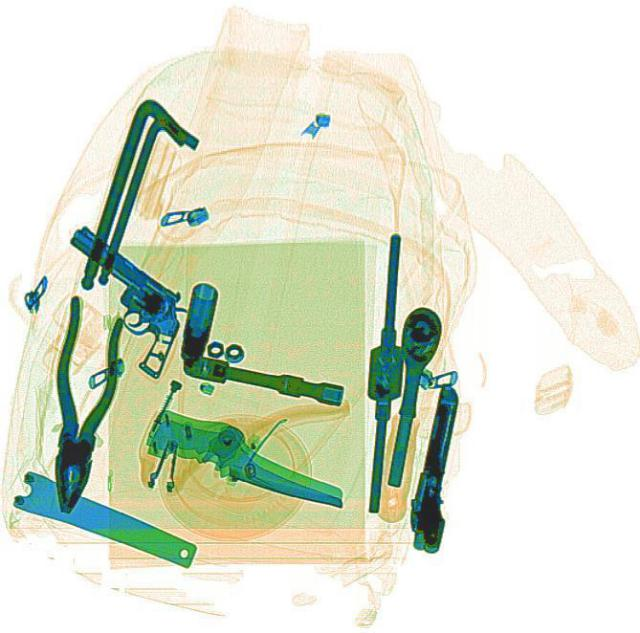Gun: (21, 221, 211, 380), (396, 378, 479, 553)
Pliers: (29, 292, 131, 515)
